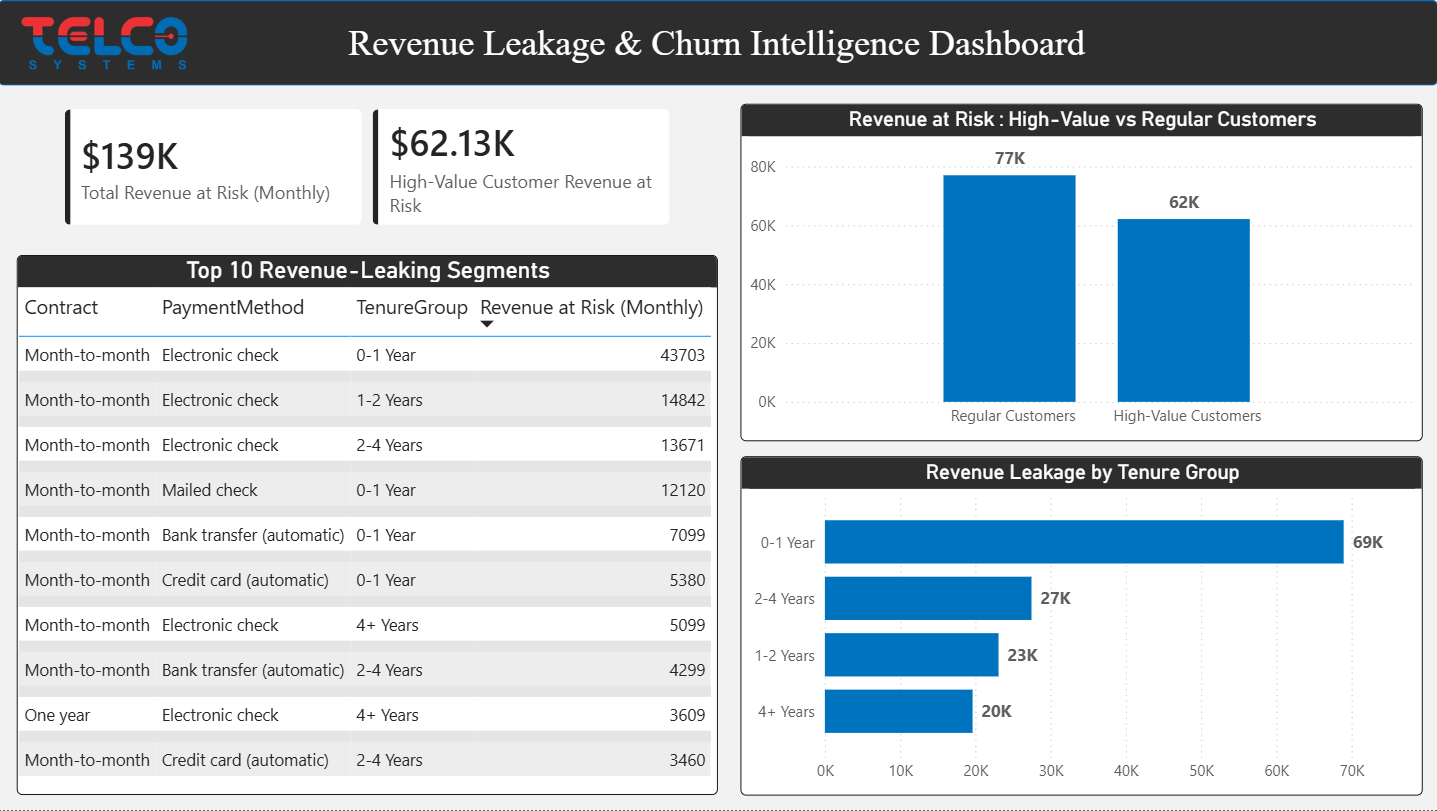

Layout of this report page (visuals, bound fields, positions):
{"tool":"powerbi","page":{"name":"Revenue Leakage Analysis","canvas":[1280,720],"ordinal":2},"visuals":[{"type":"shape","box":[0,0,1280,76],"z":0},{"type":"barChart","title":"Revenue Leakage by Tenure Group","fields":{"Category":["revenue_leakage telco_churn.TenureGroup"],"Y":["Sum(revenue_leakage telco_churn.RevenueLost)"]},"box":[660,405,606.7,301.7],"z":1000},{"type":"columnChart","title":"Revenue at Risk : High-Value vs Regular Customers","fields":{"Y":["Sum(revenue_leakage telco_churn.RevenueLost)"],"Category":["revenue_leakage telco_churn.HighValueLabel"]},"box":[660,91.7,606.7,300],"z":2000},{"type":"tableEx","title":"Top 10 Revenue-Leaking Segments","fields":{"Values":["revenue_leakage telco_churn.Contract","revenue_leakage telco_churn.PaymentMethod","revenue_leakage telco_churn.TenureGroup","revenue_leakage telco_churn.Total Revenue Lost"]},"box":[16.7,226.7,623.3,480],"z":3000},{"type":"textbox","box":[227.1,14.3,824.3,51.4],"z":4000},{"type":"cardVisual","fields":{"Data":["Sum(telco_churn_with_predictions.RevenueLost)","telco_churn_with_predictions.High-Value Revenue at Risk"]},"box":[48.8,86.2,558.8,123.1],"z":5000},{"type":"image","box":[0,14.3,188.6,56.1],"z":6000}]}

Visuals, with their boxes in screenshot pixels (x1, y1, x2, y2), scaled from the page's 1280x720 canvas onto the 1437x811 screenshot:
shape: (0, 0, 1436, 86)
"Revenue Leakage by Tenure Group" barChart: (741, 456, 1422, 796)
"Revenue at Risk : High-Value vs Regular Customers" columnChart: (741, 103, 1422, 441)
"Top 10 Revenue-Leaking Segments" tableEx: (19, 255, 718, 796)
textbox: (255, 16, 1180, 74)
cardVisual - Sum(telco_churn_with_predictions.RevenueLost) x telco_churn_with_predictions.High-Value Revenue at Risk: (55, 97, 682, 236)
image: (0, 16, 212, 79)
